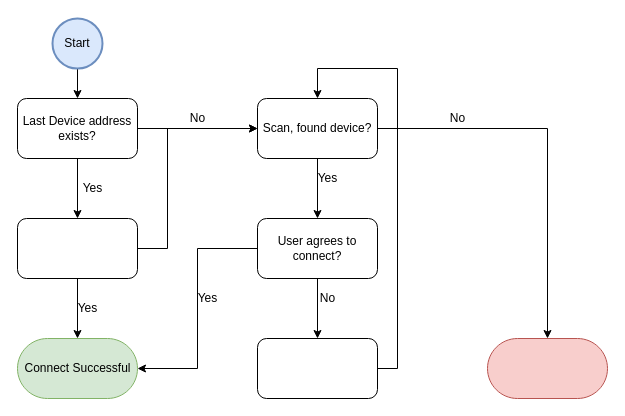
Image size: 625x416. Some labels were removed from this diagram. The centre of each missing label's shape, as x and y in pixels:
Add device address to "Wrong device" array: point 317,368
Connect unsuccessful: point 547,368
Found device with last address?: point 77,248
